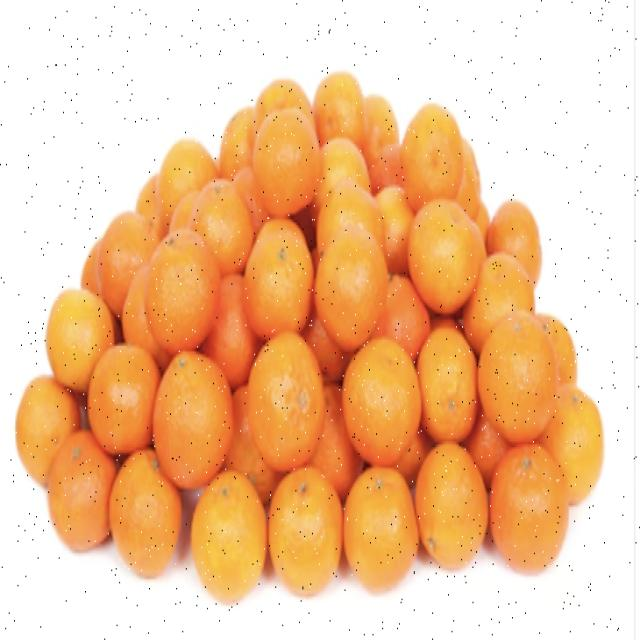orange: (238, 332, 333, 473), (478, 451, 570, 587), (476, 318, 565, 447), (339, 337, 424, 472), (102, 453, 184, 589), (153, 352, 234, 486), (186, 478, 272, 604), (340, 462, 419, 596), (412, 451, 491, 579), (260, 482, 344, 600), (315, 234, 392, 350), (44, 434, 113, 560), (238, 228, 318, 336), (410, 328, 480, 446), (86, 344, 159, 455), (251, 111, 319, 219), (406, 193, 476, 294), (546, 382, 606, 498), (42, 288, 110, 390), (150, 237, 212, 332), (401, 105, 459, 202), (469, 248, 526, 346), (379, 264, 435, 362), (17, 380, 71, 476), (195, 190, 254, 271), (103, 202, 146, 306), (362, 93, 407, 188), (164, 132, 216, 205), (494, 204, 543, 276), (317, 77, 365, 146)
